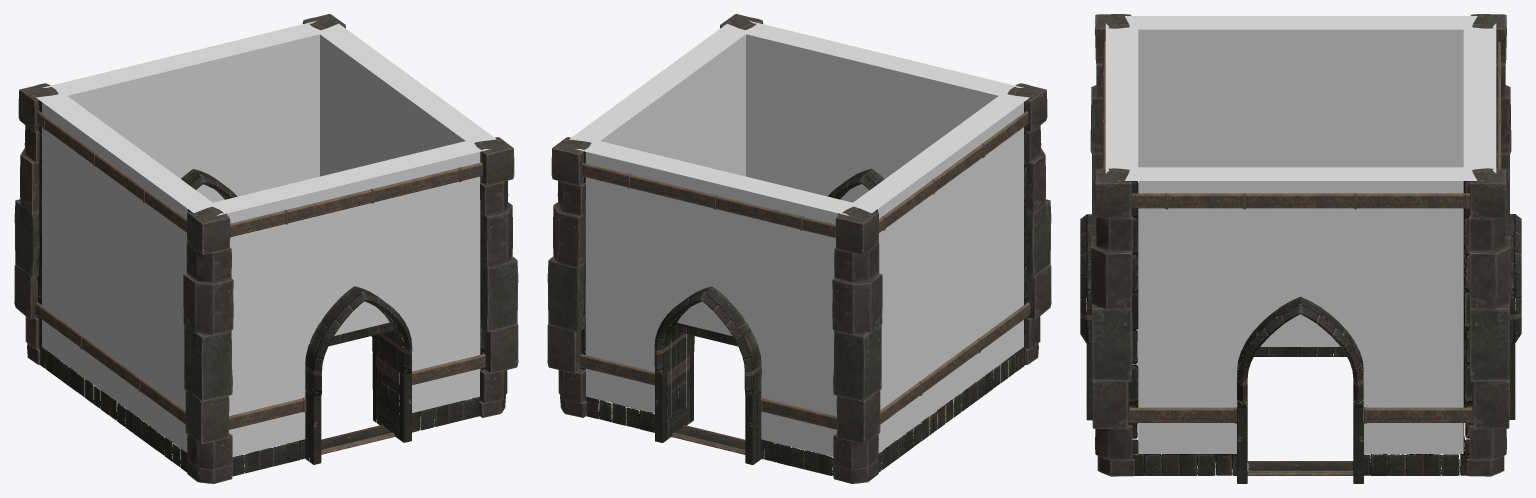
3 views of the same model, side by side, from view 1: azimuth 30°, elevation 25°; view 2: azimuth 150°, elevation 25°; view 3: azimuth 270°, elevation 25° (orthographic). The views are drawn at different scales.
Parts seen in each view (by area): view 1: SM_Dowdun_Tower_Room_12x12_03_LOD0; view 2: SM_Dowdun_Tower_Room_12x12_03_LOD0; view 3: SM_Dowdun_Tower_Room_12x12_03_LOD0.
Boxes of the visible parts, x1,y1,x2,y2 form: SM_Dowdun_Tower_Room_12x12_03_LOD0: (14,14,518,483); SM_Dowdun_Tower_Room_12x12_03_LOD0: (547,14,1051,483); SM_Dowdun_Tower_Room_12x12_03_LOD0: (1080,14,1521,483).
Bounding box in the file's own units: 13.08 × 10.01 × 13.57.
4 materials, 3 textured.
